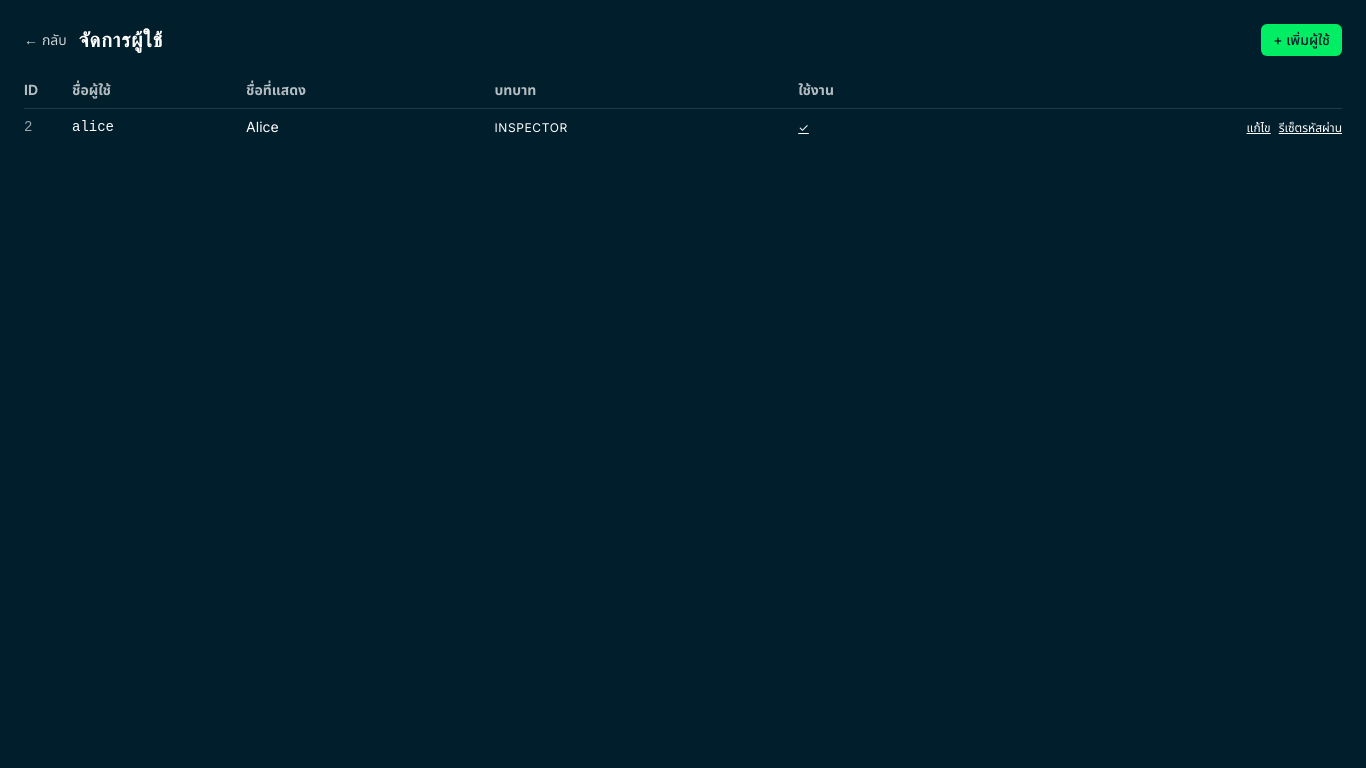
AdminUsersPage reset flow › refetches on Done so the temp-pw badge appears
The width and height of the screenshot is (1366, 768).
Expected: the text "alice" is shown, x1=72 y1=108 x2=246 y2=145
Click the button with test id "reset-password-2".
click(1310, 128)  # box x1=1279 y1=120 x2=1342 y2=136
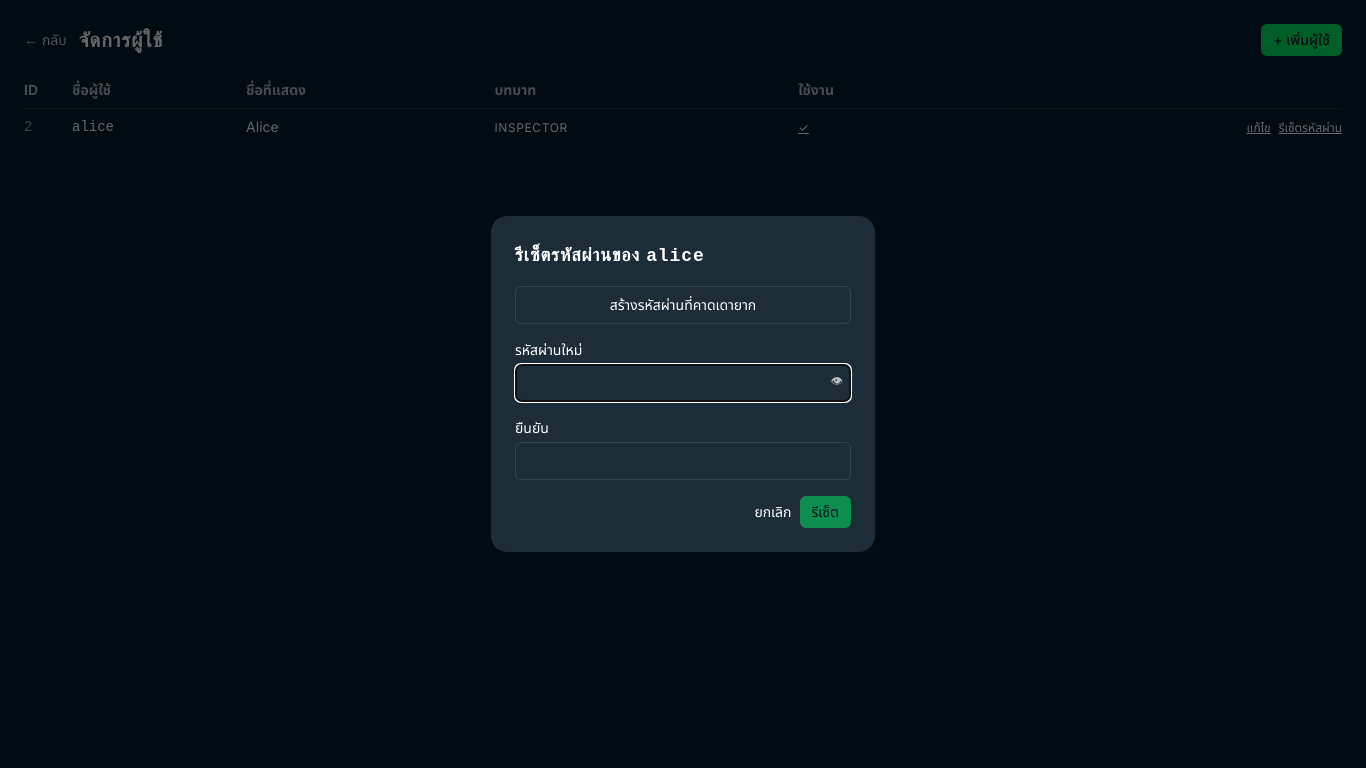
Click the button with test id "generate-password".
click(683, 305)  # box x1=515 y1=286 x2=851 y2=324
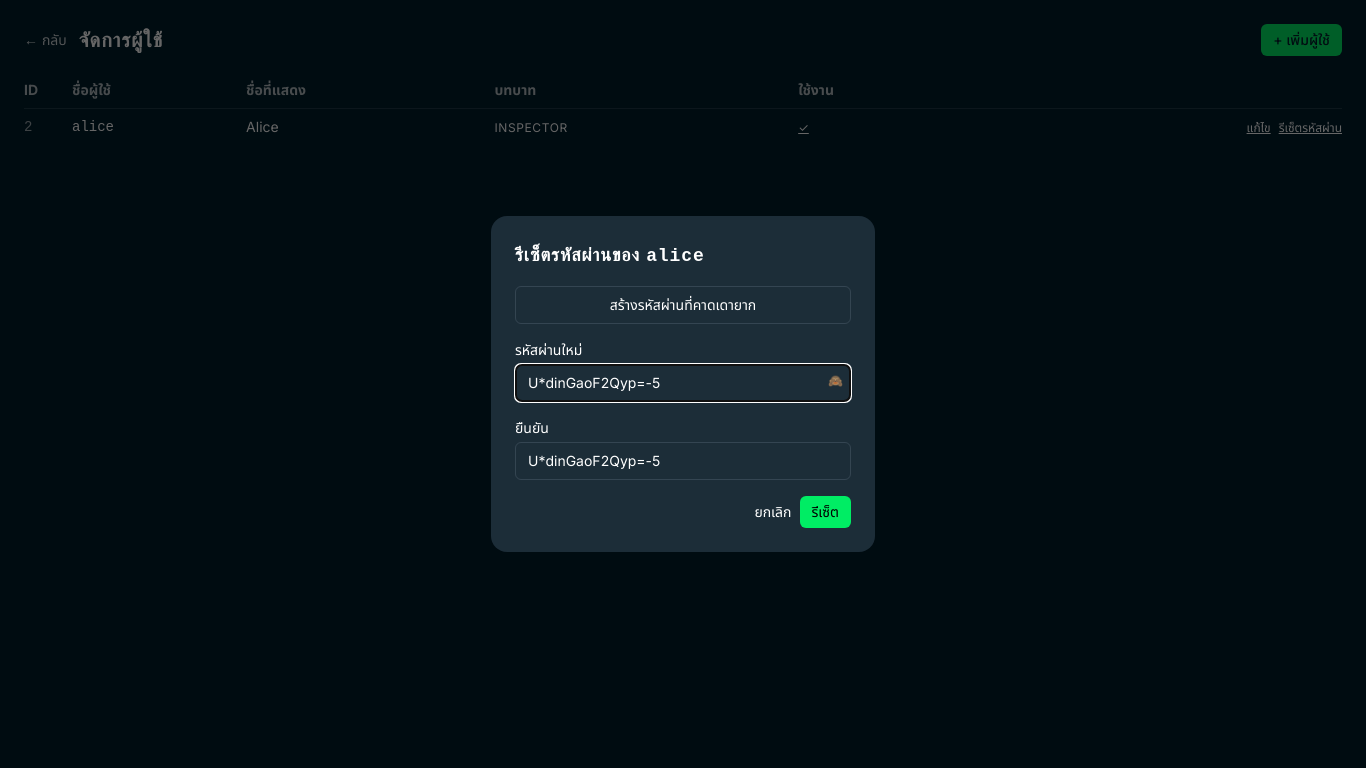
Click the button "รีเซ็ต".
click(825, 512)  # box x1=800 y1=496 x2=851 y2=528
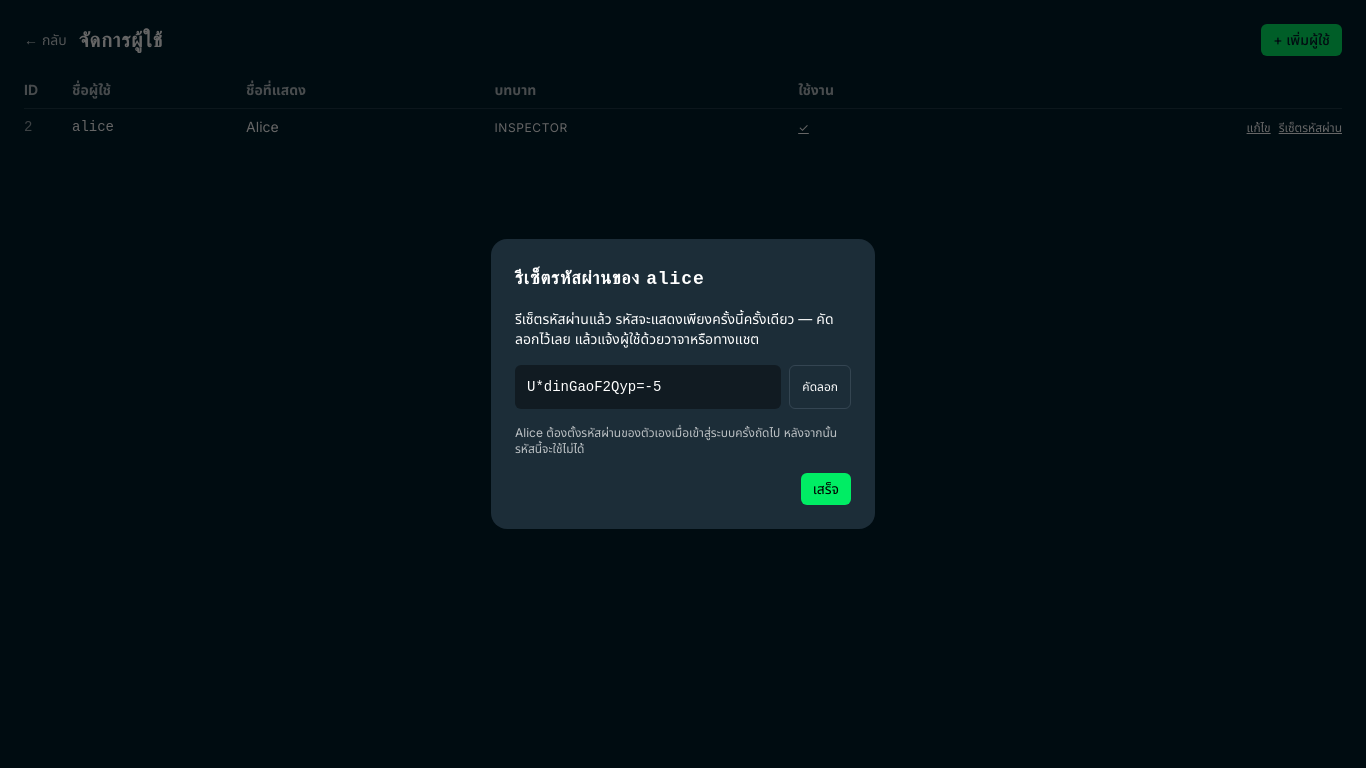
Now the text with test id "handover-password" is shown, box x1=515 y1=365 x2=781 y2=409
Click the button "เสร็จ".
click(826, 489)  # box x1=801 y1=473 x2=851 y2=505
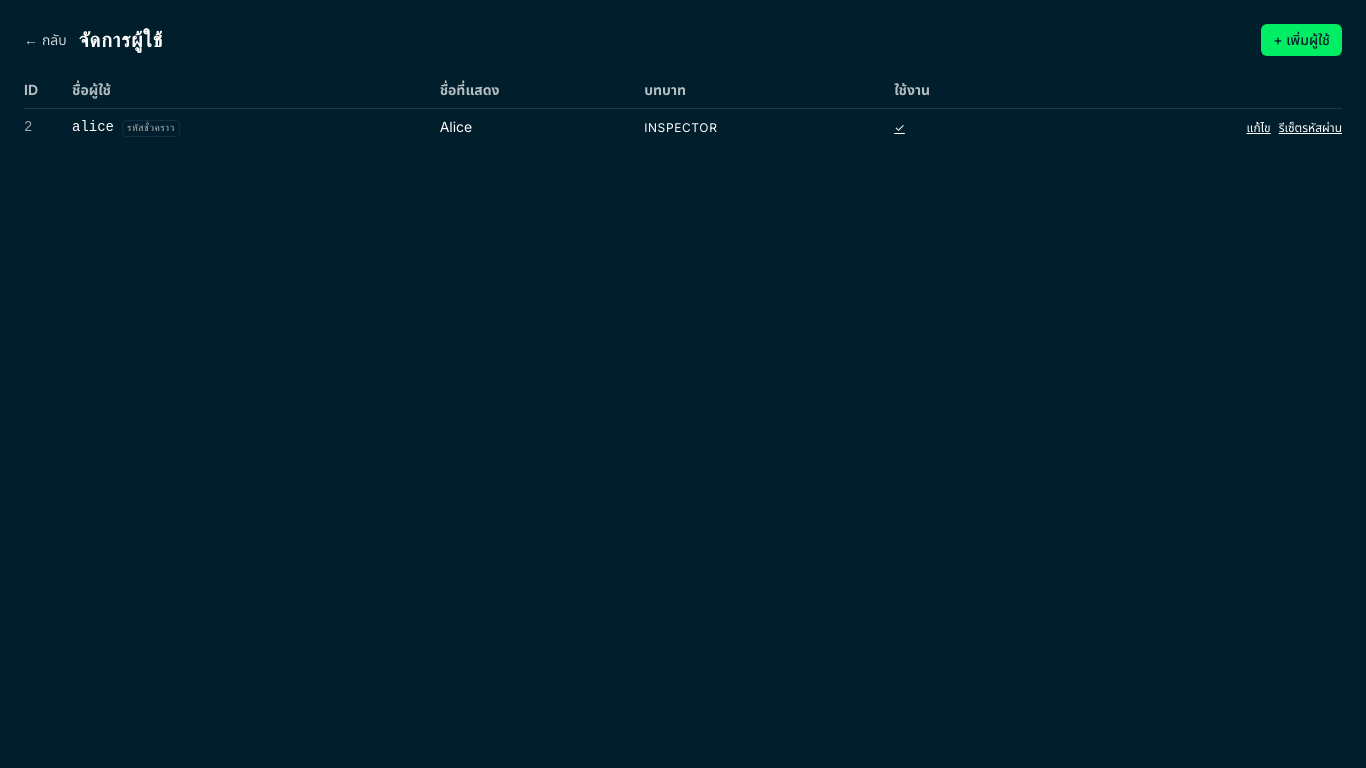
Now the text "รหัสชั่วคราว" is shown, box x1=122 y1=120 x2=180 y2=137
